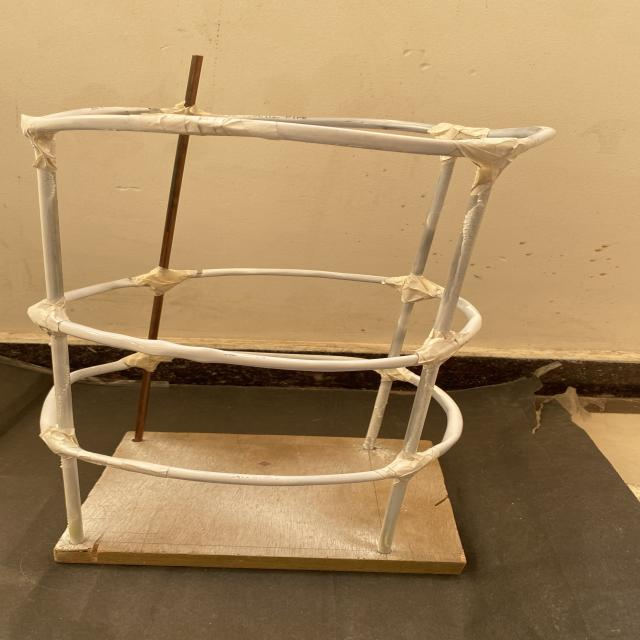silo: (23, 59, 554, 573)
